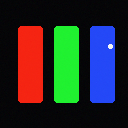0 point: (108, 44, 112, 48)
